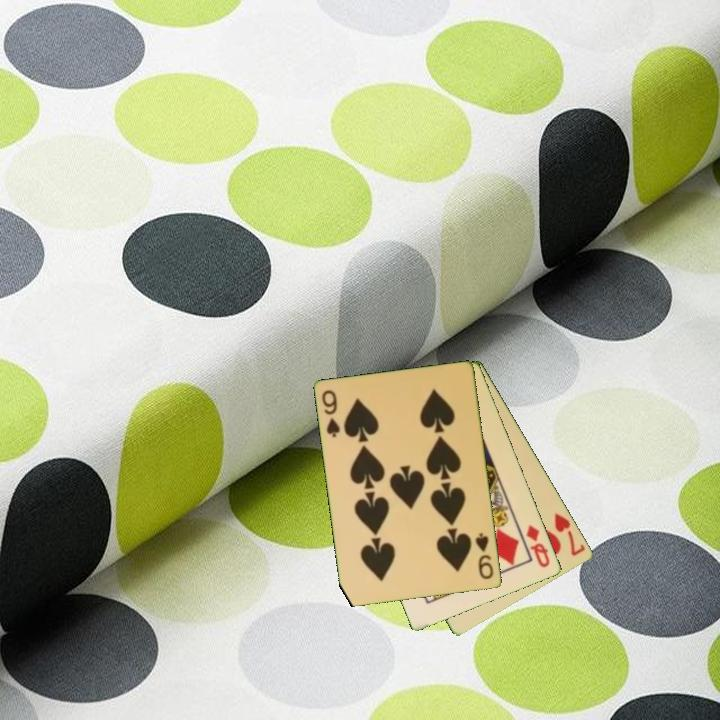7h: (551, 510, 588, 559)
9s: (472, 530, 497, 582), (319, 387, 343, 440)
Qd: (523, 521, 553, 571)
